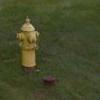Hydrant: (13, 9, 42, 78)
